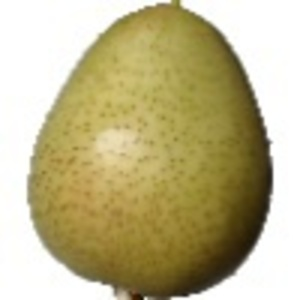pera: (25, 1, 273, 300)
